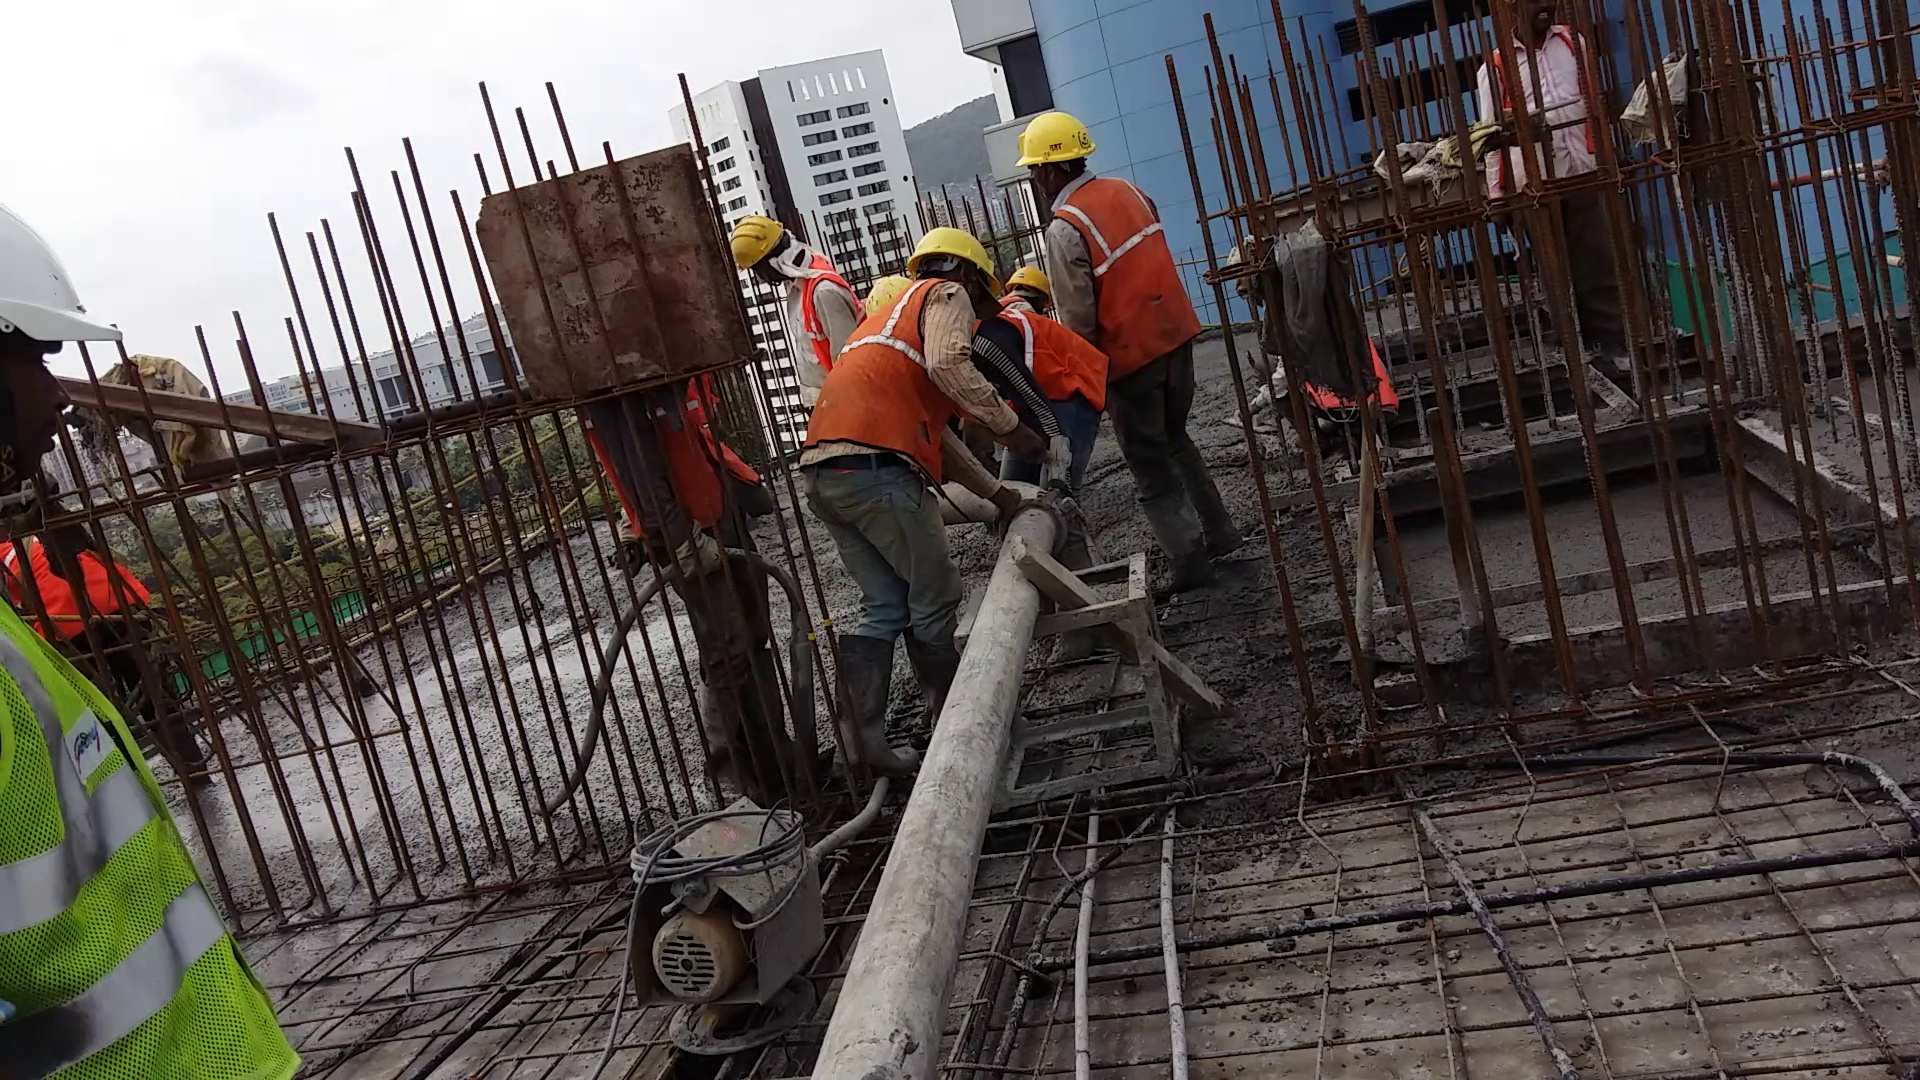SAFE: (1, 214, 222, 1080), (807, 223, 988, 462), (1023, 107, 1188, 368)
